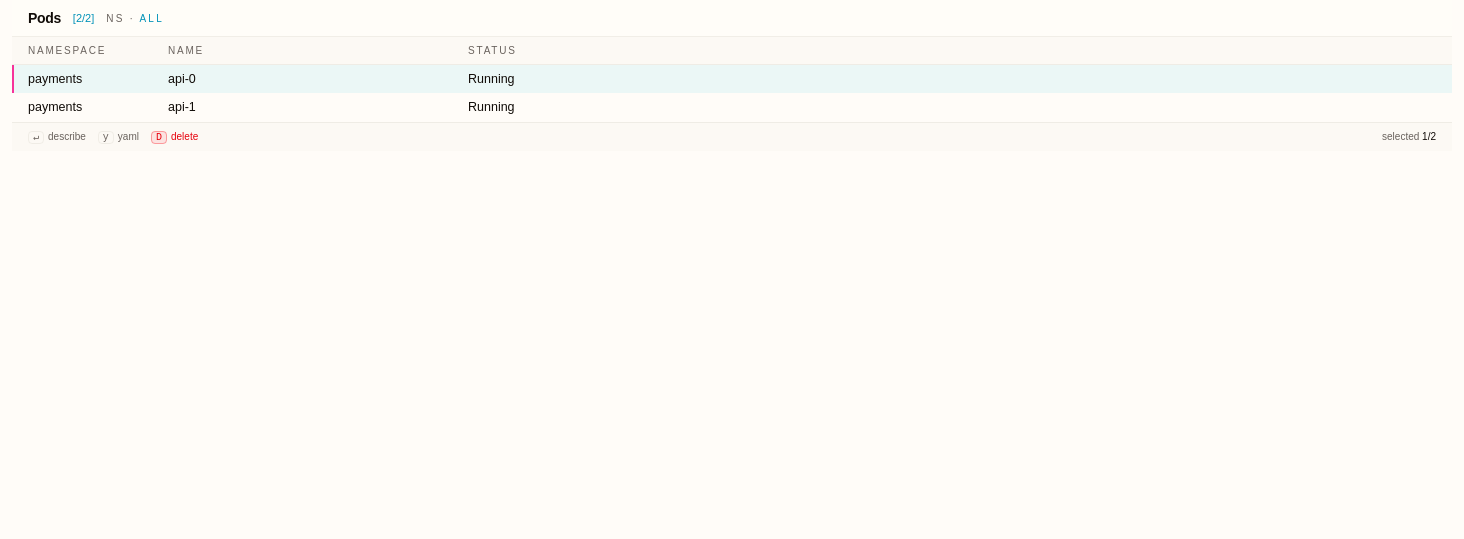
Test: ResourceTable delete action › closes the confirmation once the delete succeeds
The image size is (1464, 539).
Press D
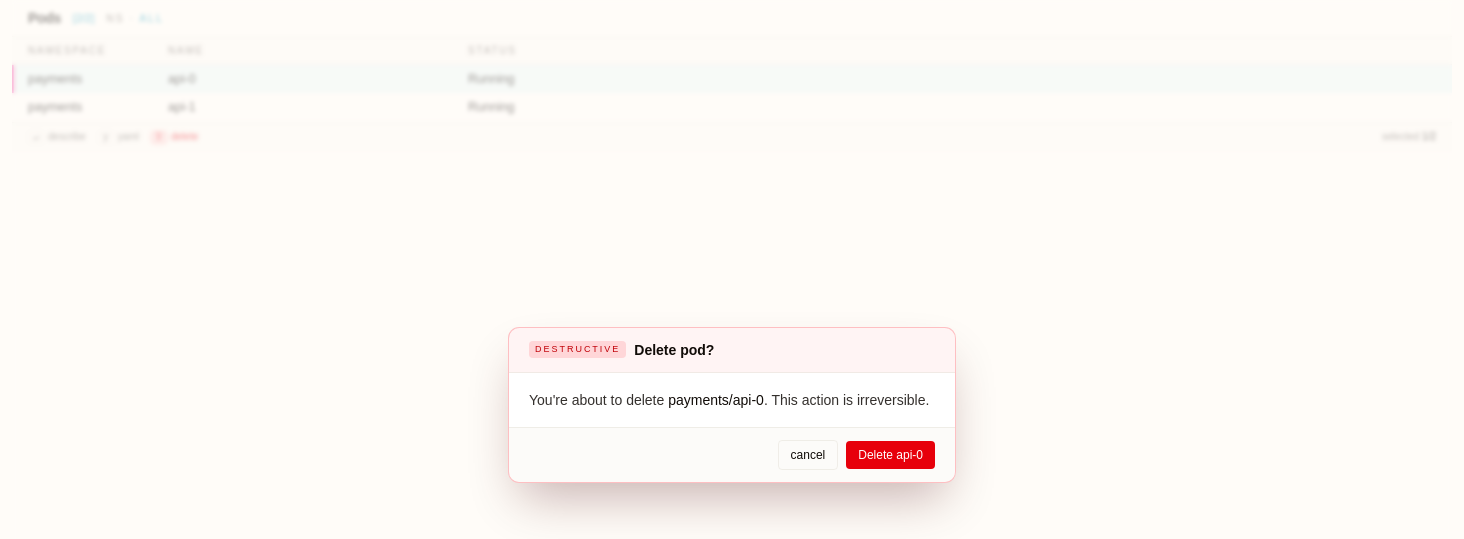
Click the button "Delete api-0" at (891, 455), box [846,441,935,469]
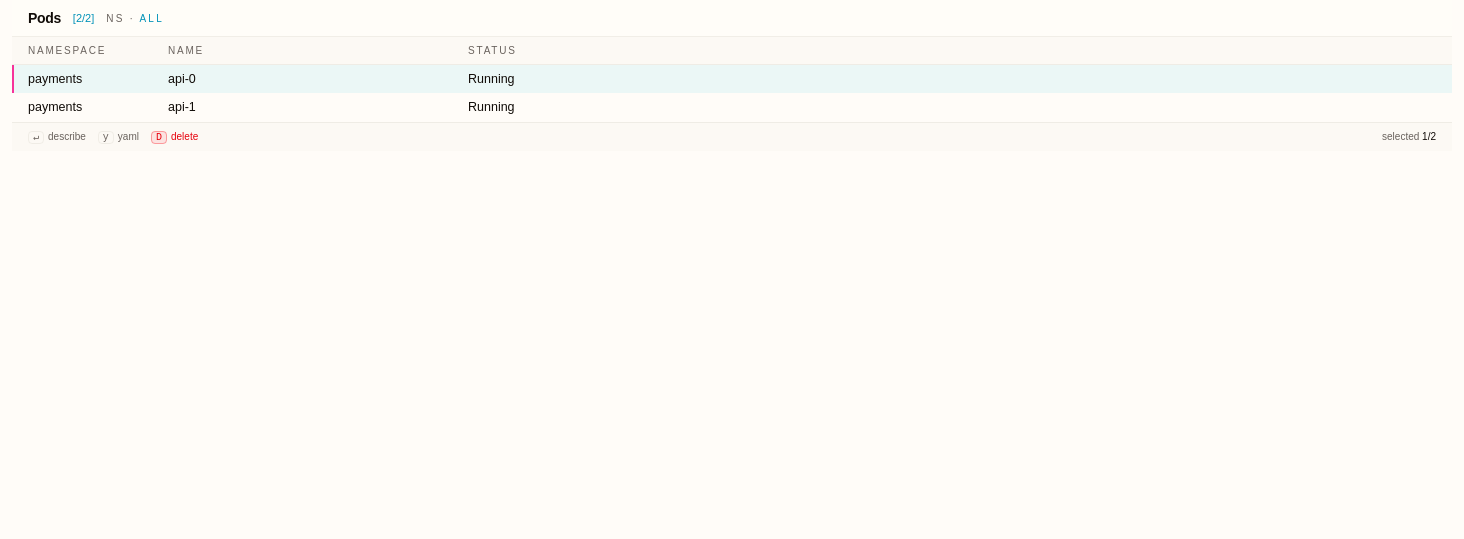
Now the button "Delete api-0" is gone
